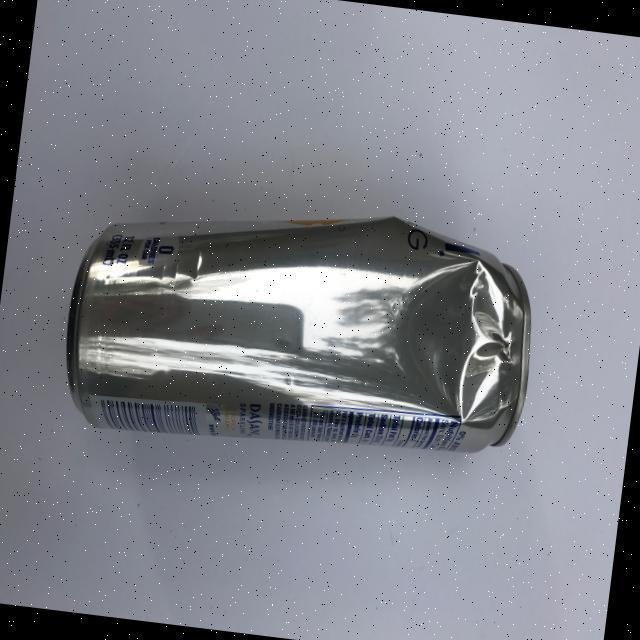metal: (54, 176, 546, 479)
